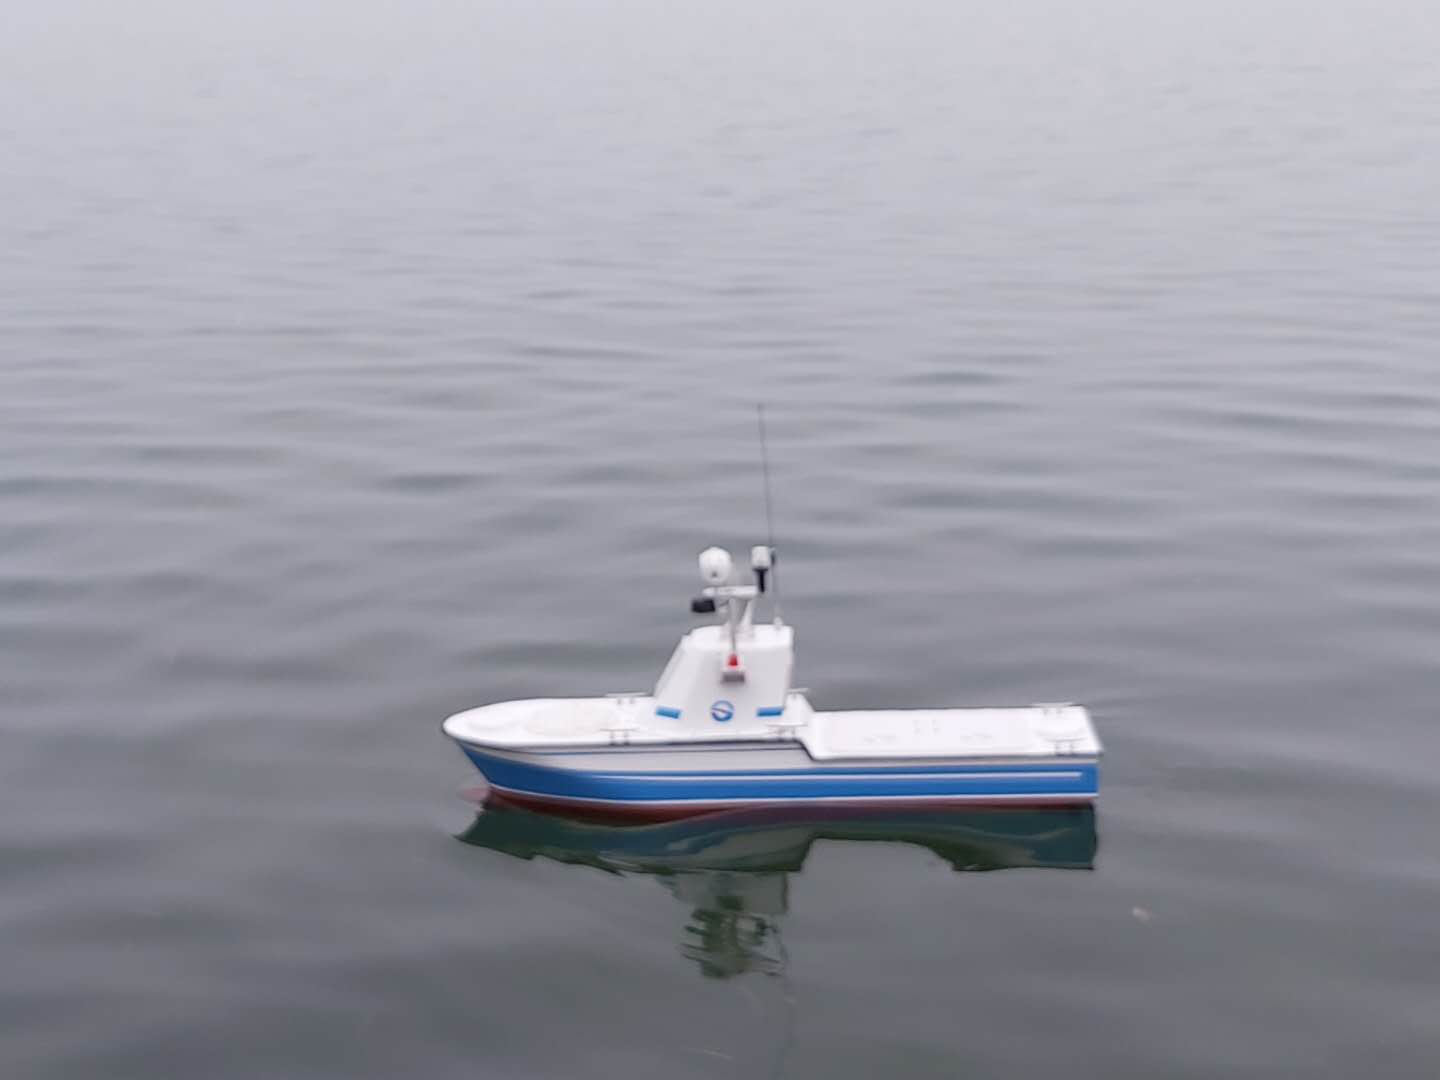boat: (437, 546, 1130, 829)
